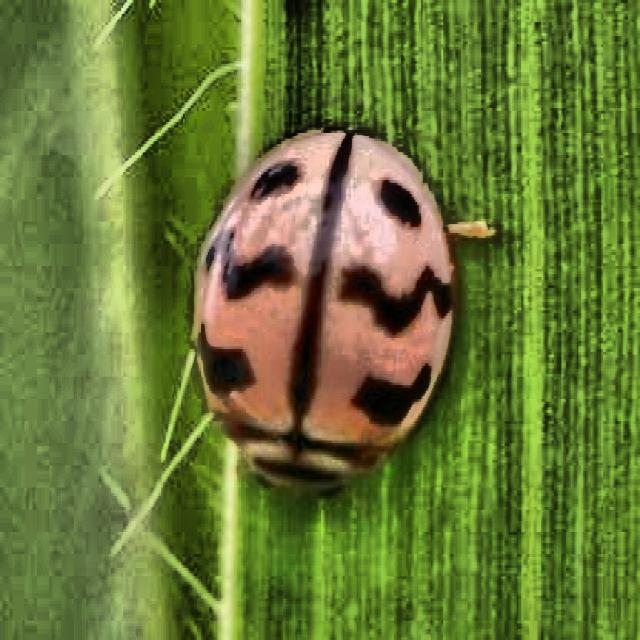Asian-Lady-beetle: (158, 59, 483, 520)
